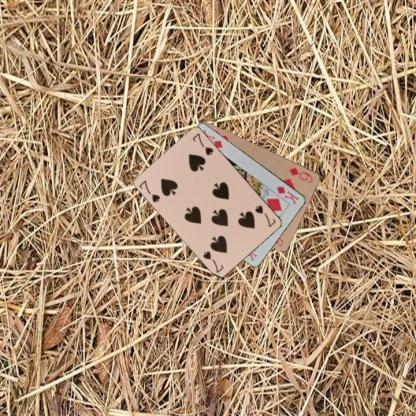6d: (287, 165, 314, 184)
7s: (136, 177, 162, 204), (252, 203, 277, 228)
Kd: (274, 184, 300, 206)
